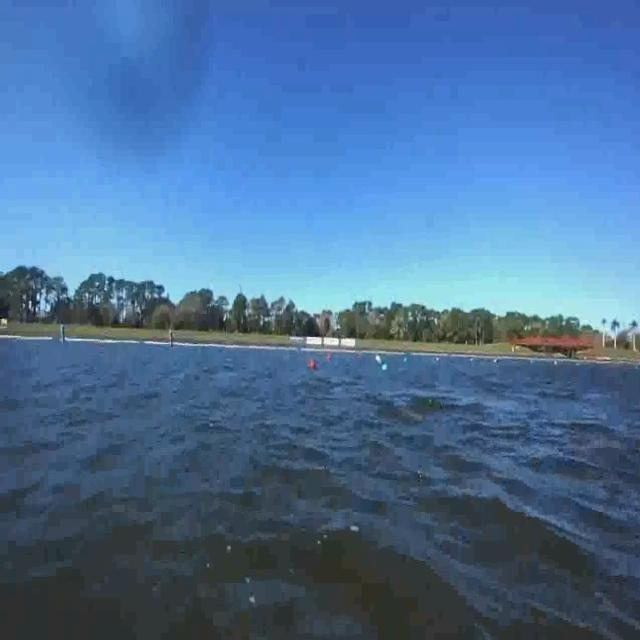red-buoy: (309, 358, 315, 369)
